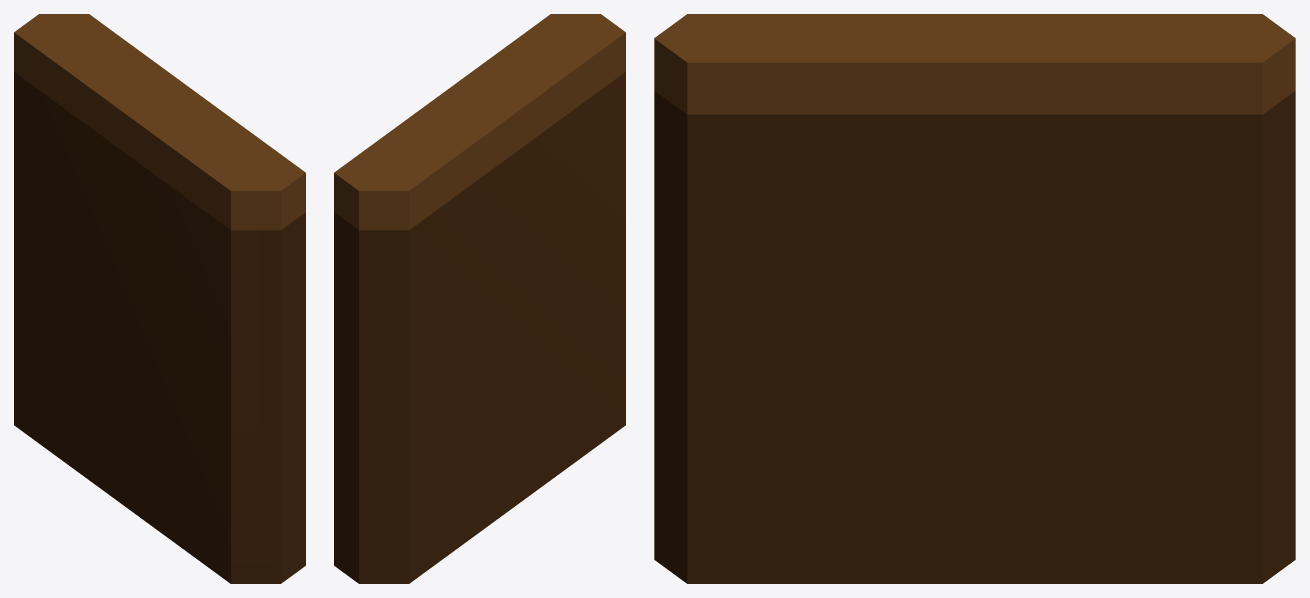
File: wasteland_edge.glb
The picture shows the model from 3 angles, left to right: view 1: azimuth 30°, elevation 25°; view 2: azimuth 150°, elevation 25°; view 3: azimuth 270°, elevation 25°; orthographic projection. The views are drawn at different scales.
Visible parts, largest first — view 1: wasteland_edge; view 2: wasteland_edge; view 3: wasteland_edge.
Part boxes in pixels (x1,y1,x2,y2): wasteland_edge: (14, 14, 305, 583); wasteland_edge: (334, 14, 625, 583); wasteland_edge: (654, 14, 1295, 583).
Bounding box in the file's own units: 0.2 × 1 × 1.12.
